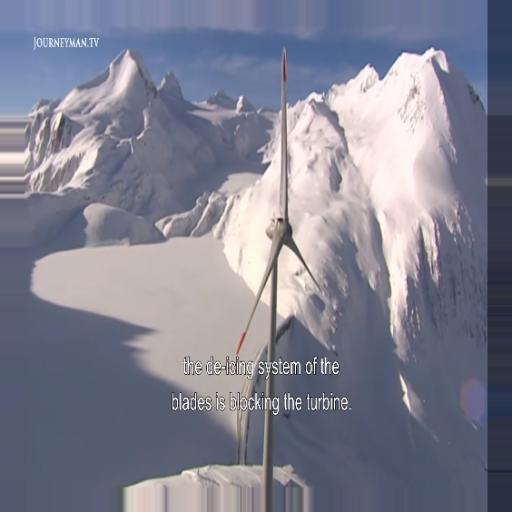wind turbine: (236, 48, 324, 512)
